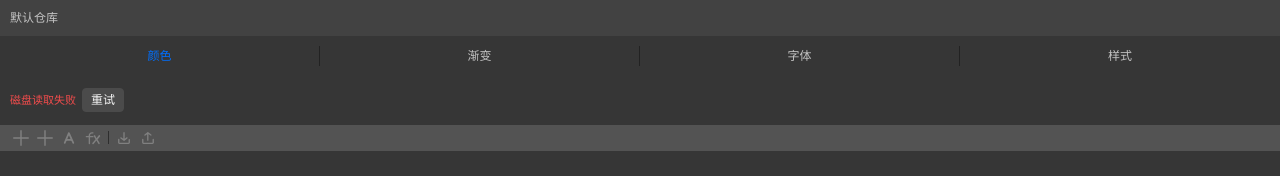
样式页三态 › 重试：点重试重新读，成功后错误消失并显示库内容
The image size is (1280, 176).
Expected: the element with class "style-error" is shown, [10, 88, 124, 112]
Click the button with class "style-retry". click: point(103, 100)
box: [82, 88, 124, 112]
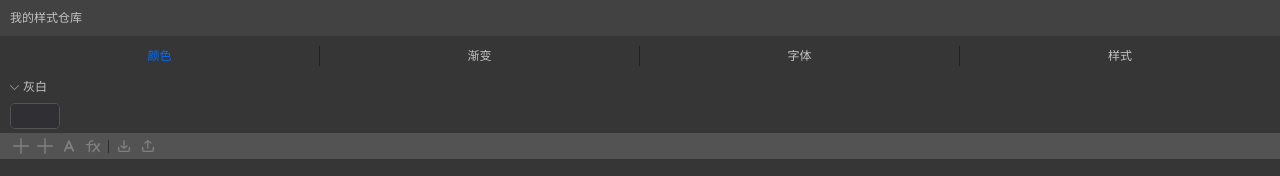
Expected: the text "灰白" is shown, [23, 78, 47, 96]
Expected: the element with class "style-item__swatch" is shown, [11, 104, 59, 128]
